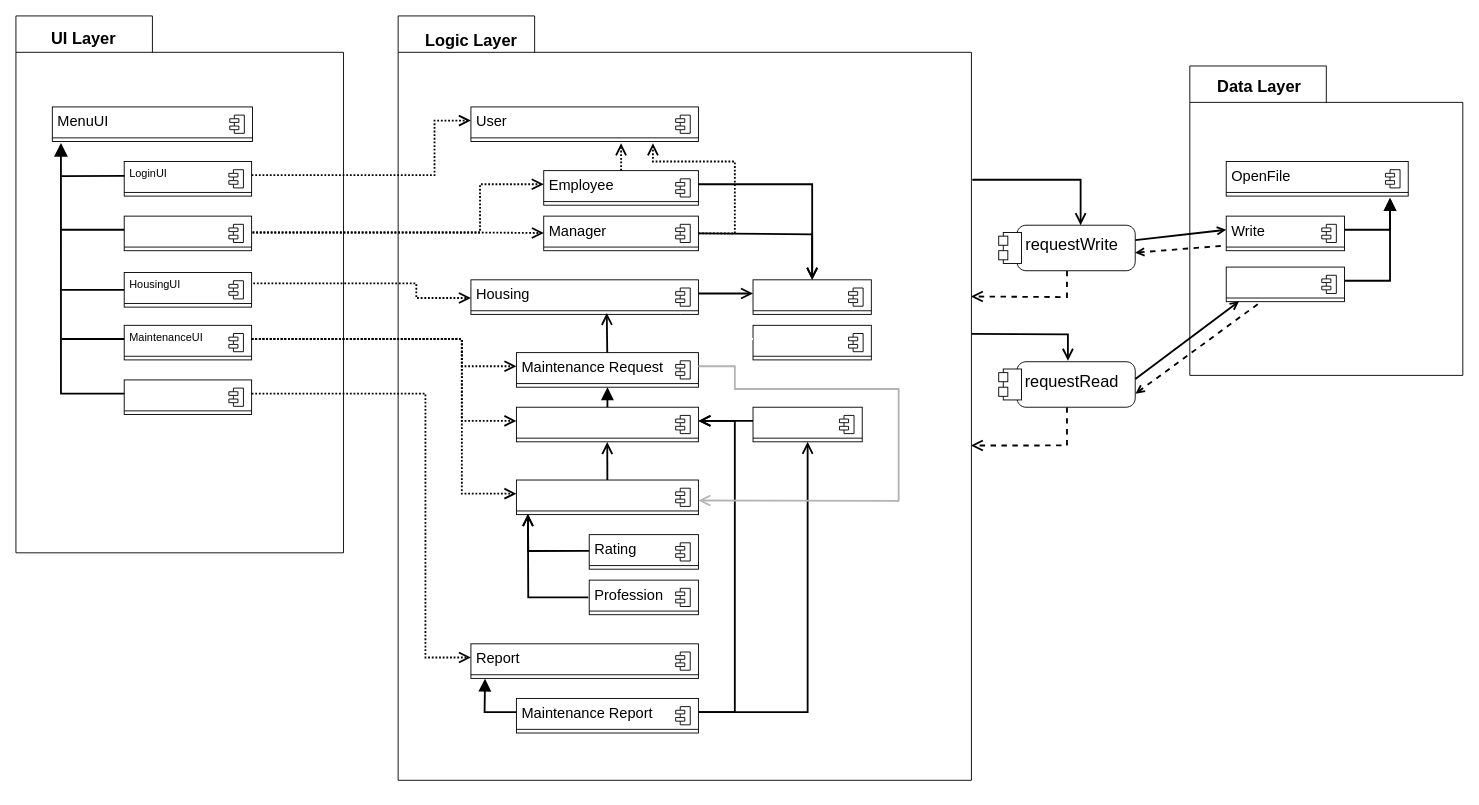
Some shapes in this 1479 by 805 pixel diagram are drawn without their labels. Here are the shapes that lost their labels. From the top down, the centre of each, then its label:
the point at 187,233: StaffUI
the point at 811,296: Destination
the point at 1285,284: Read
the point at 811,342: Amenity
the point at 187,397: ReportUI
the point at 607,424: Maintenance
the point at 807,424: Cost
the point at 607,497: Contractor
